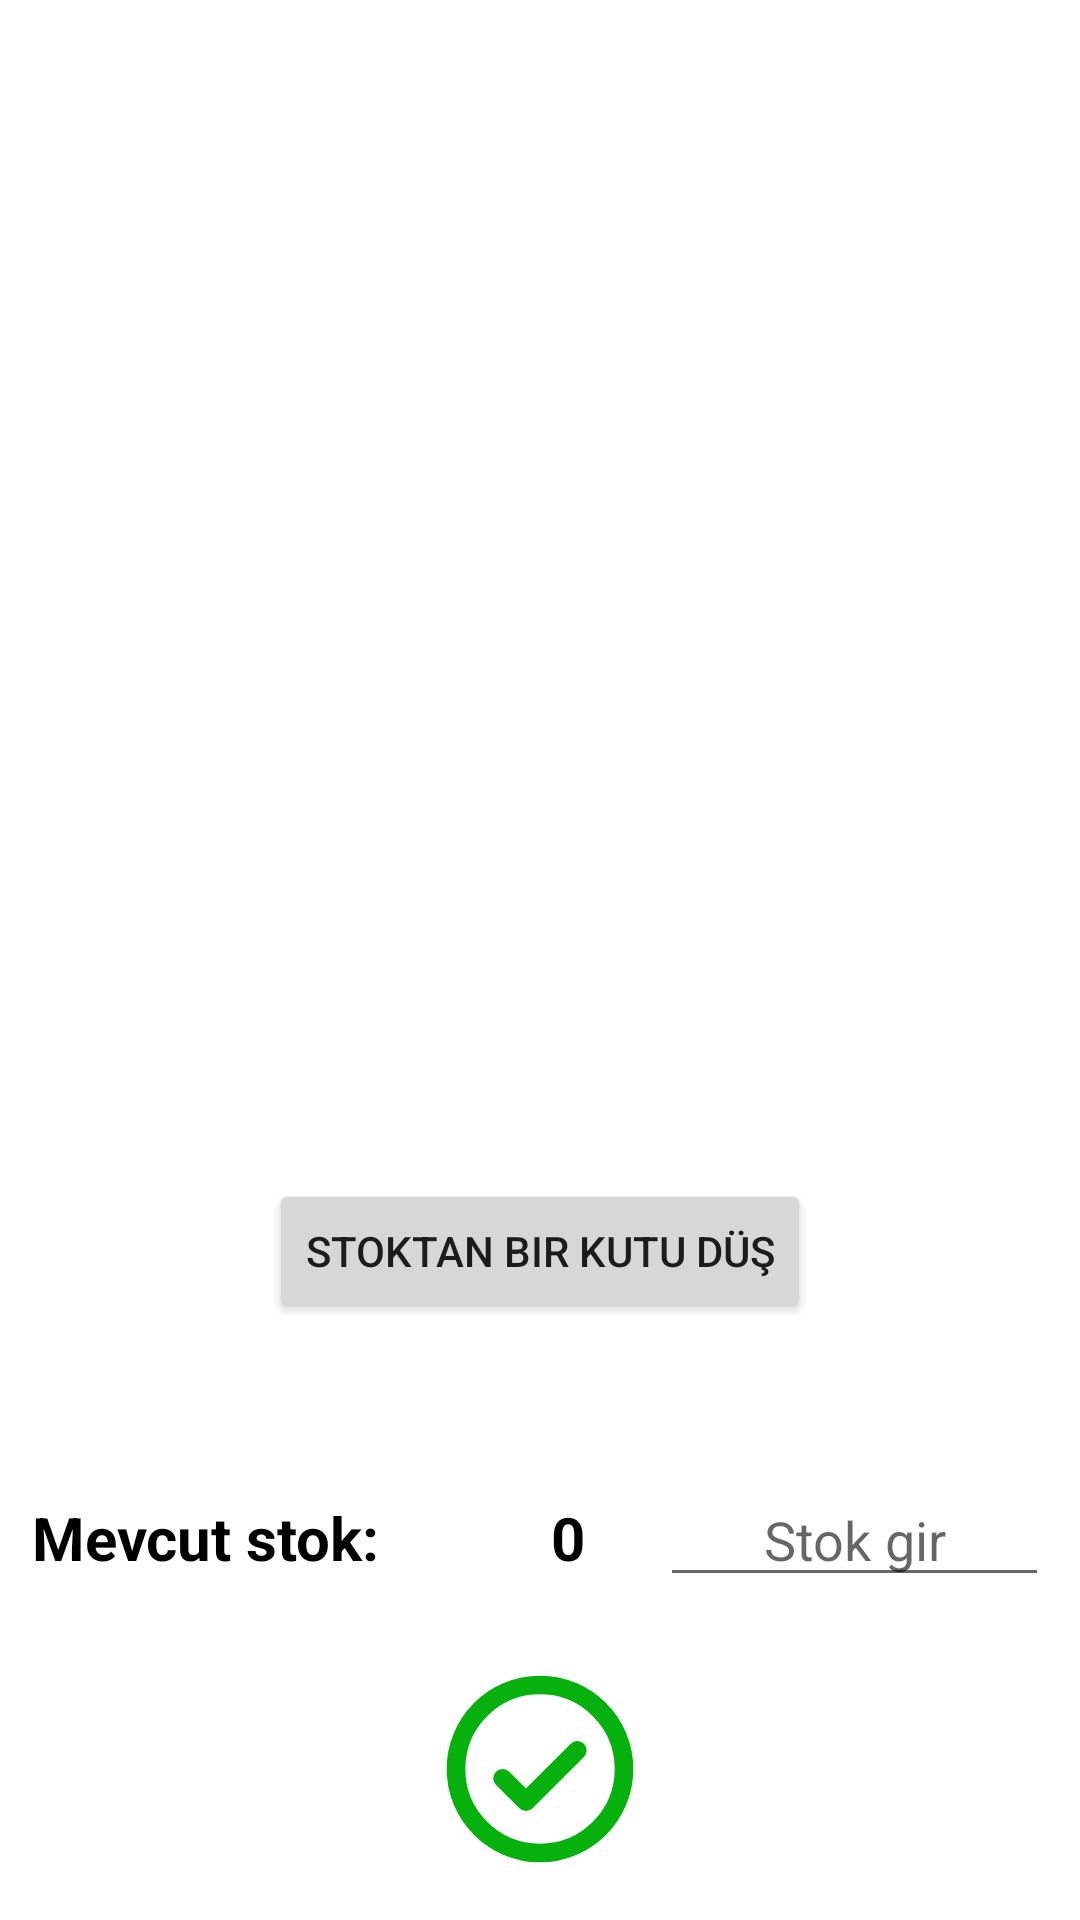

Screen size 1080 x 1920. Icon name, then its box in pixels as [x1=x1, y1=y1, x2=x2, y2=y2]:
accept: [x1=446, y1=1675, x2=634, y2=1863]
